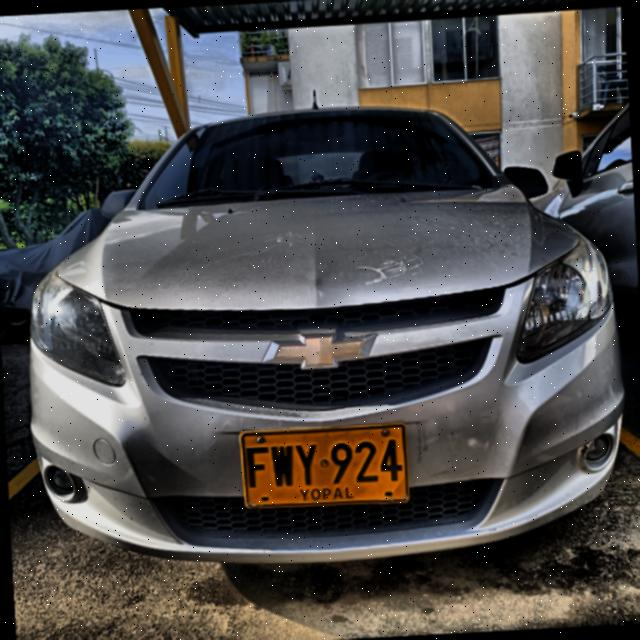2: (353, 440, 380, 485)
4: (378, 438, 404, 484)
9: (330, 441, 354, 486)
F: (246, 445, 271, 490)
W: (269, 444, 295, 488)
Y: (294, 442, 319, 488)
